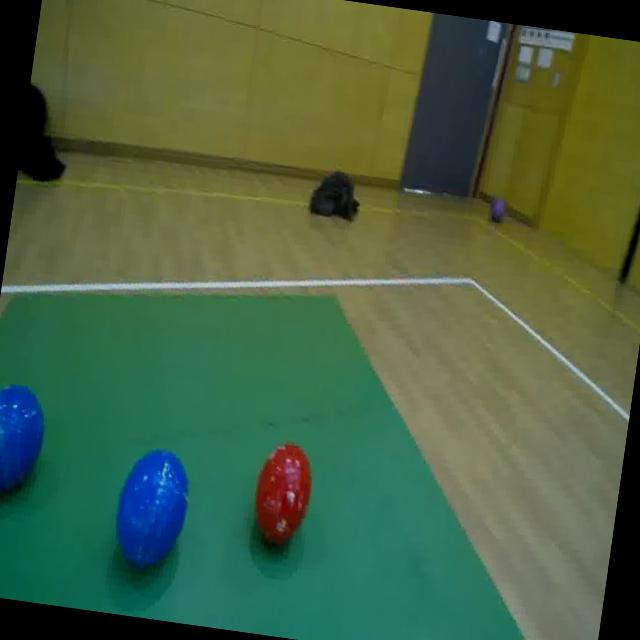blue_ball: (107, 439, 197, 576), (0, 375, 51, 506)
purple_ball: (488, 198, 507, 225)
red_ball: (246, 436, 320, 556)
